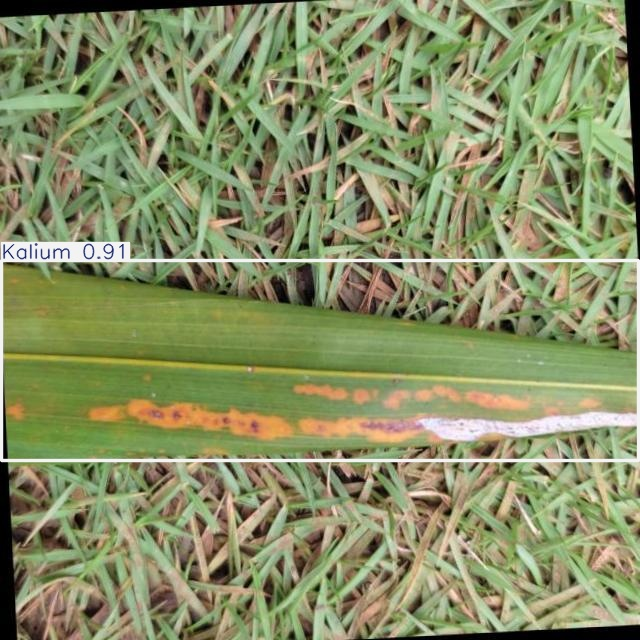Kalium: (1, 261, 638, 461)
